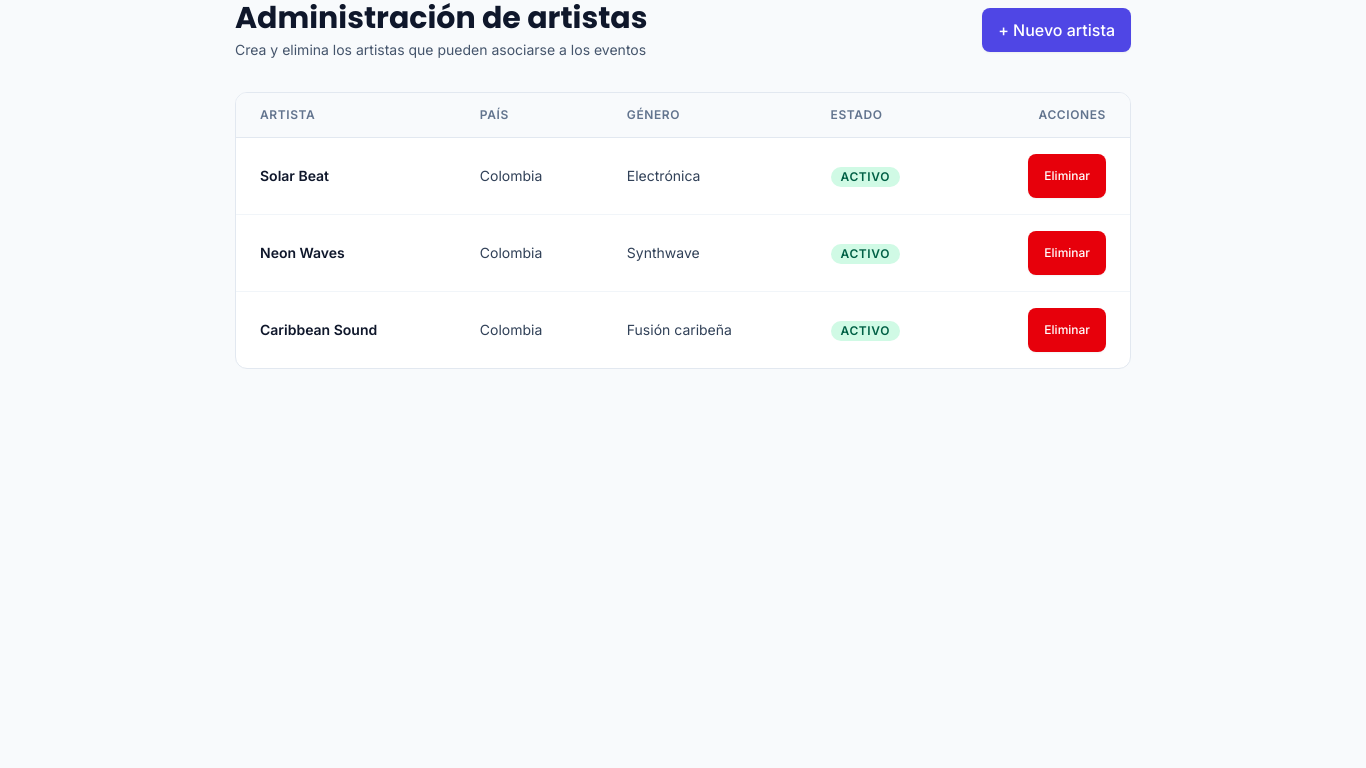
Test: ADMIN: administrar artistas › TEST-FE-ADM-ART-006: eliminar un artista pide confirmación y lo quita del listado
Click the button with aria-label "Eliminar Caribbean Sound" at (1067, 330), box [1028,308,1106,352]
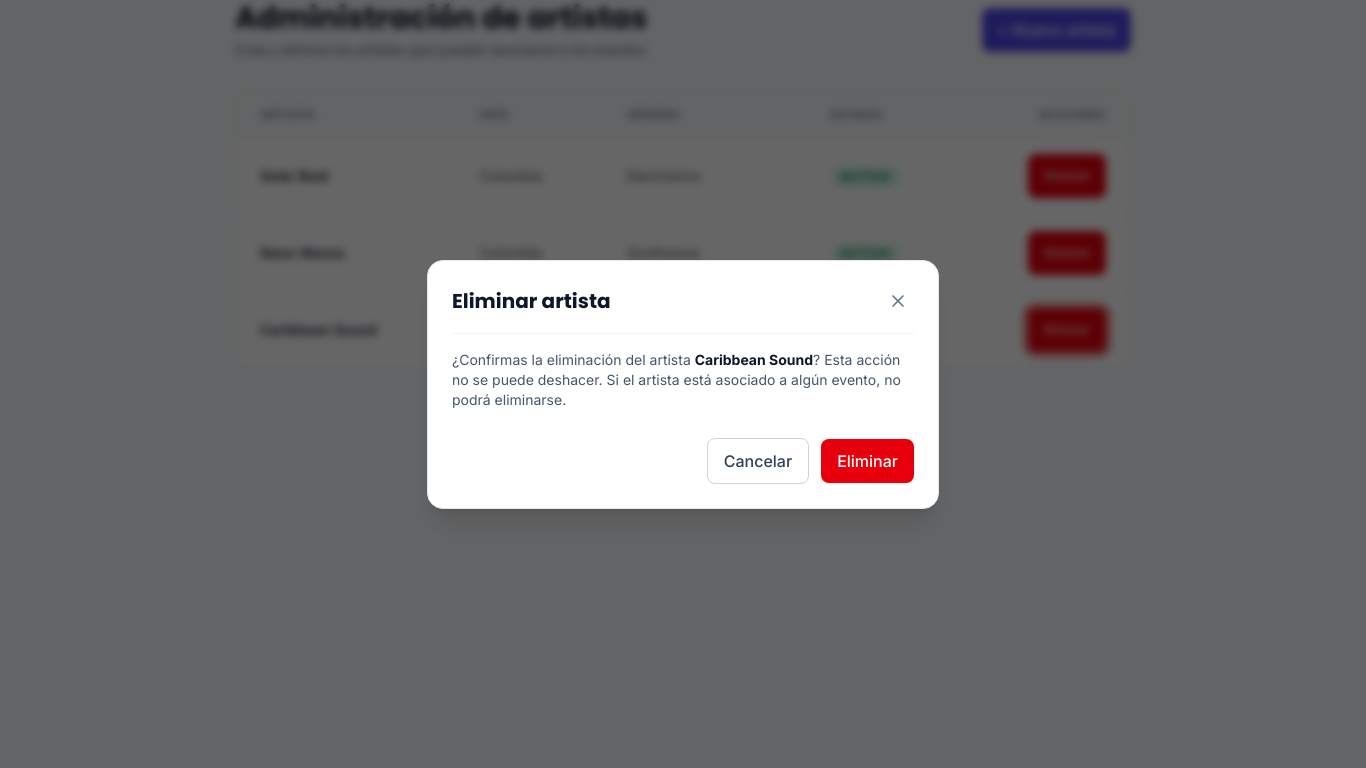
Expected: the text "¿Confirmas la eliminación del artista" is shown, [452,350,691,368]
Click the button "Eliminar" at (868, 460), box [821,438,914,482]
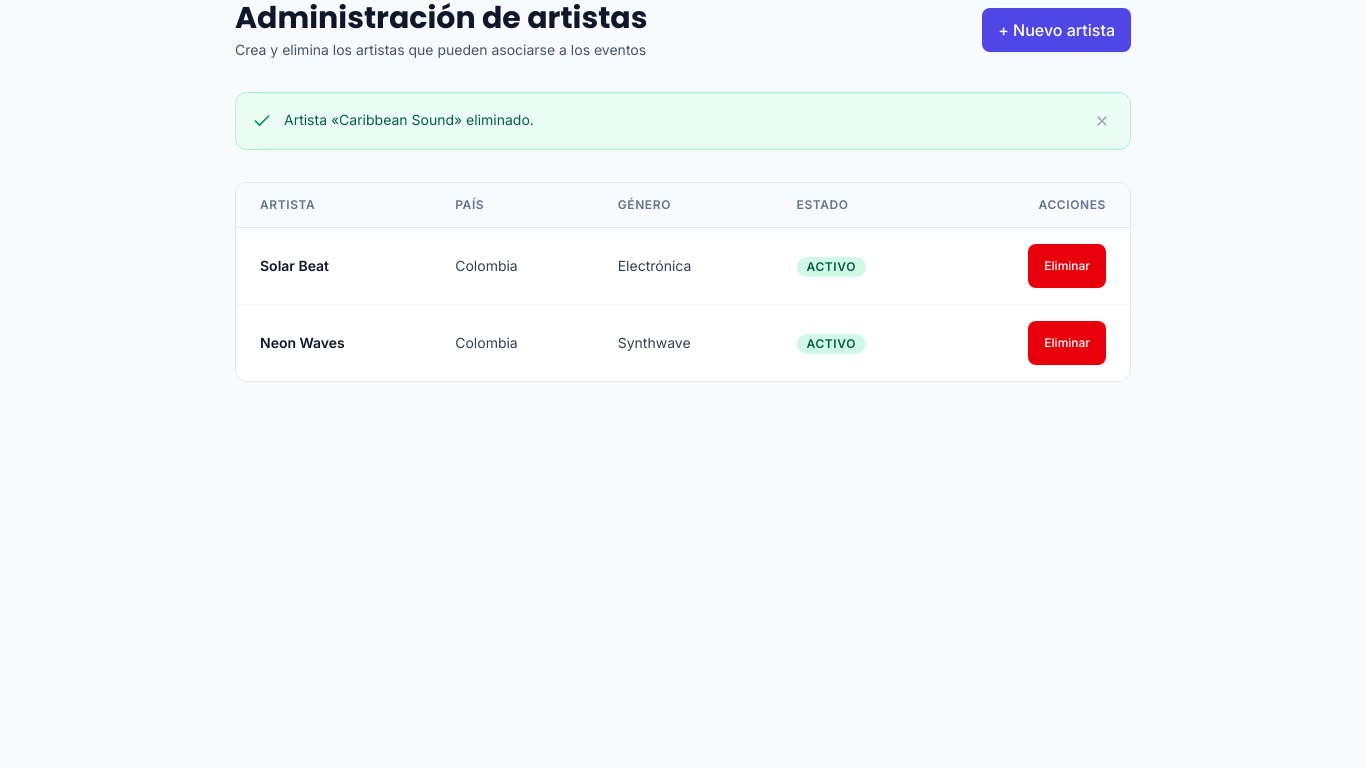
Expected: the link "Solar Beat" is shown, [260,257,329,274]
Expected: the text "Artista «Caribbean Sound» eliminado." is shown, [284,111,534,128]
